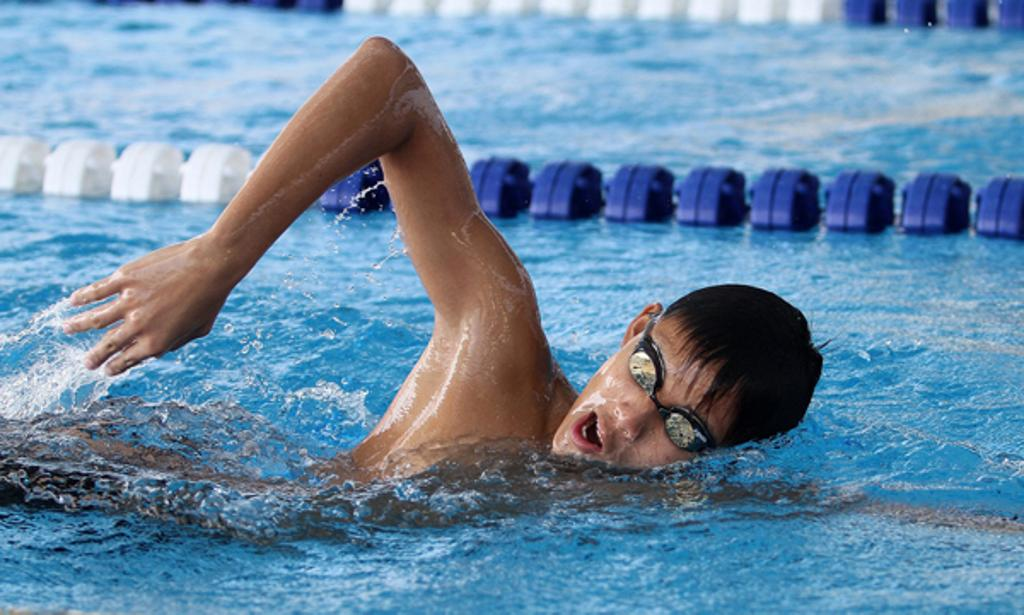face: (552, 344, 726, 476)
